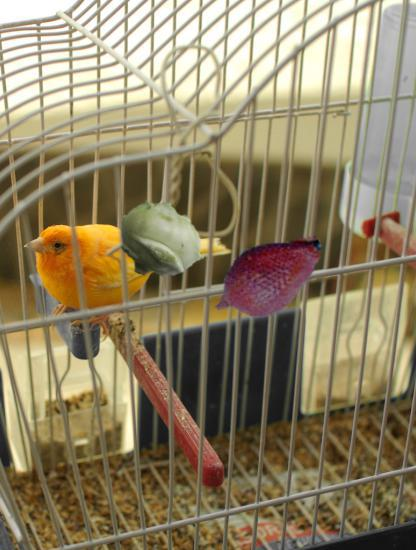Kohlrabi: (116, 197, 207, 288)
Salak: (205, 215, 330, 340)
